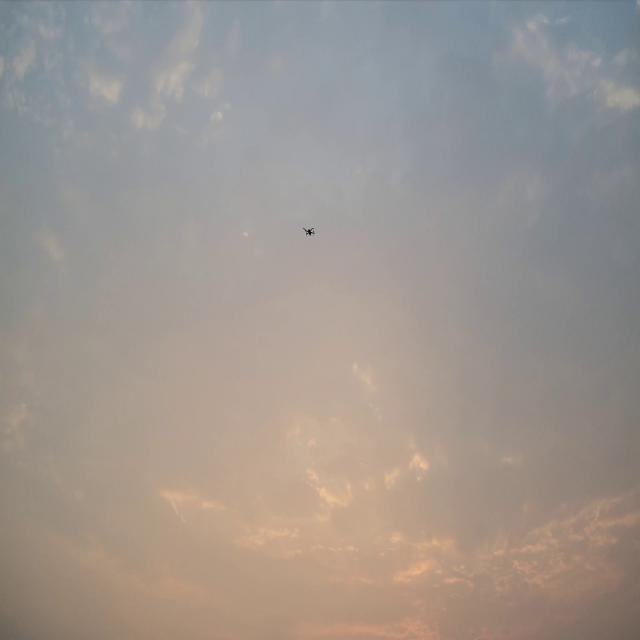UAV: (302, 227, 316, 236)
